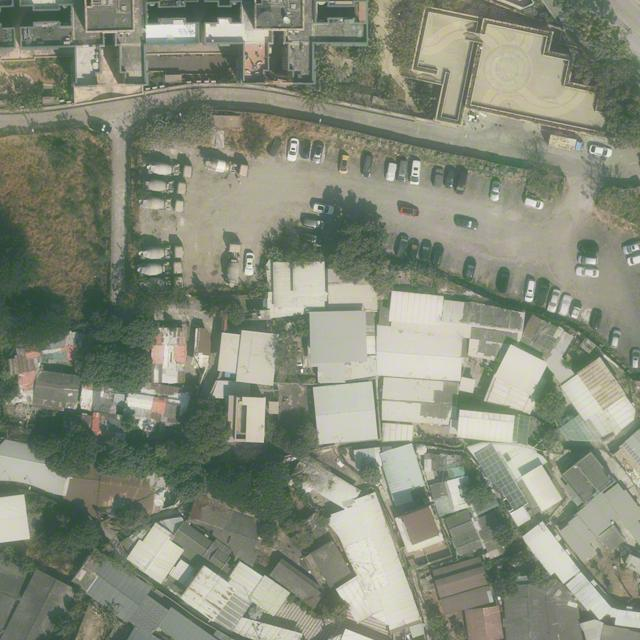panel: (479, 446, 528, 510), (474, 452, 498, 486)
